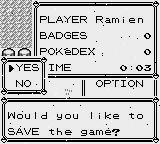no-caminable: (1, 48, 32, 56)
seleccionado: (8, 63, 40, 72)
texto: (32, 0, 159, 78), (1, 97, 160, 144), (1, 56, 49, 97), (82, 78, 159, 97)
